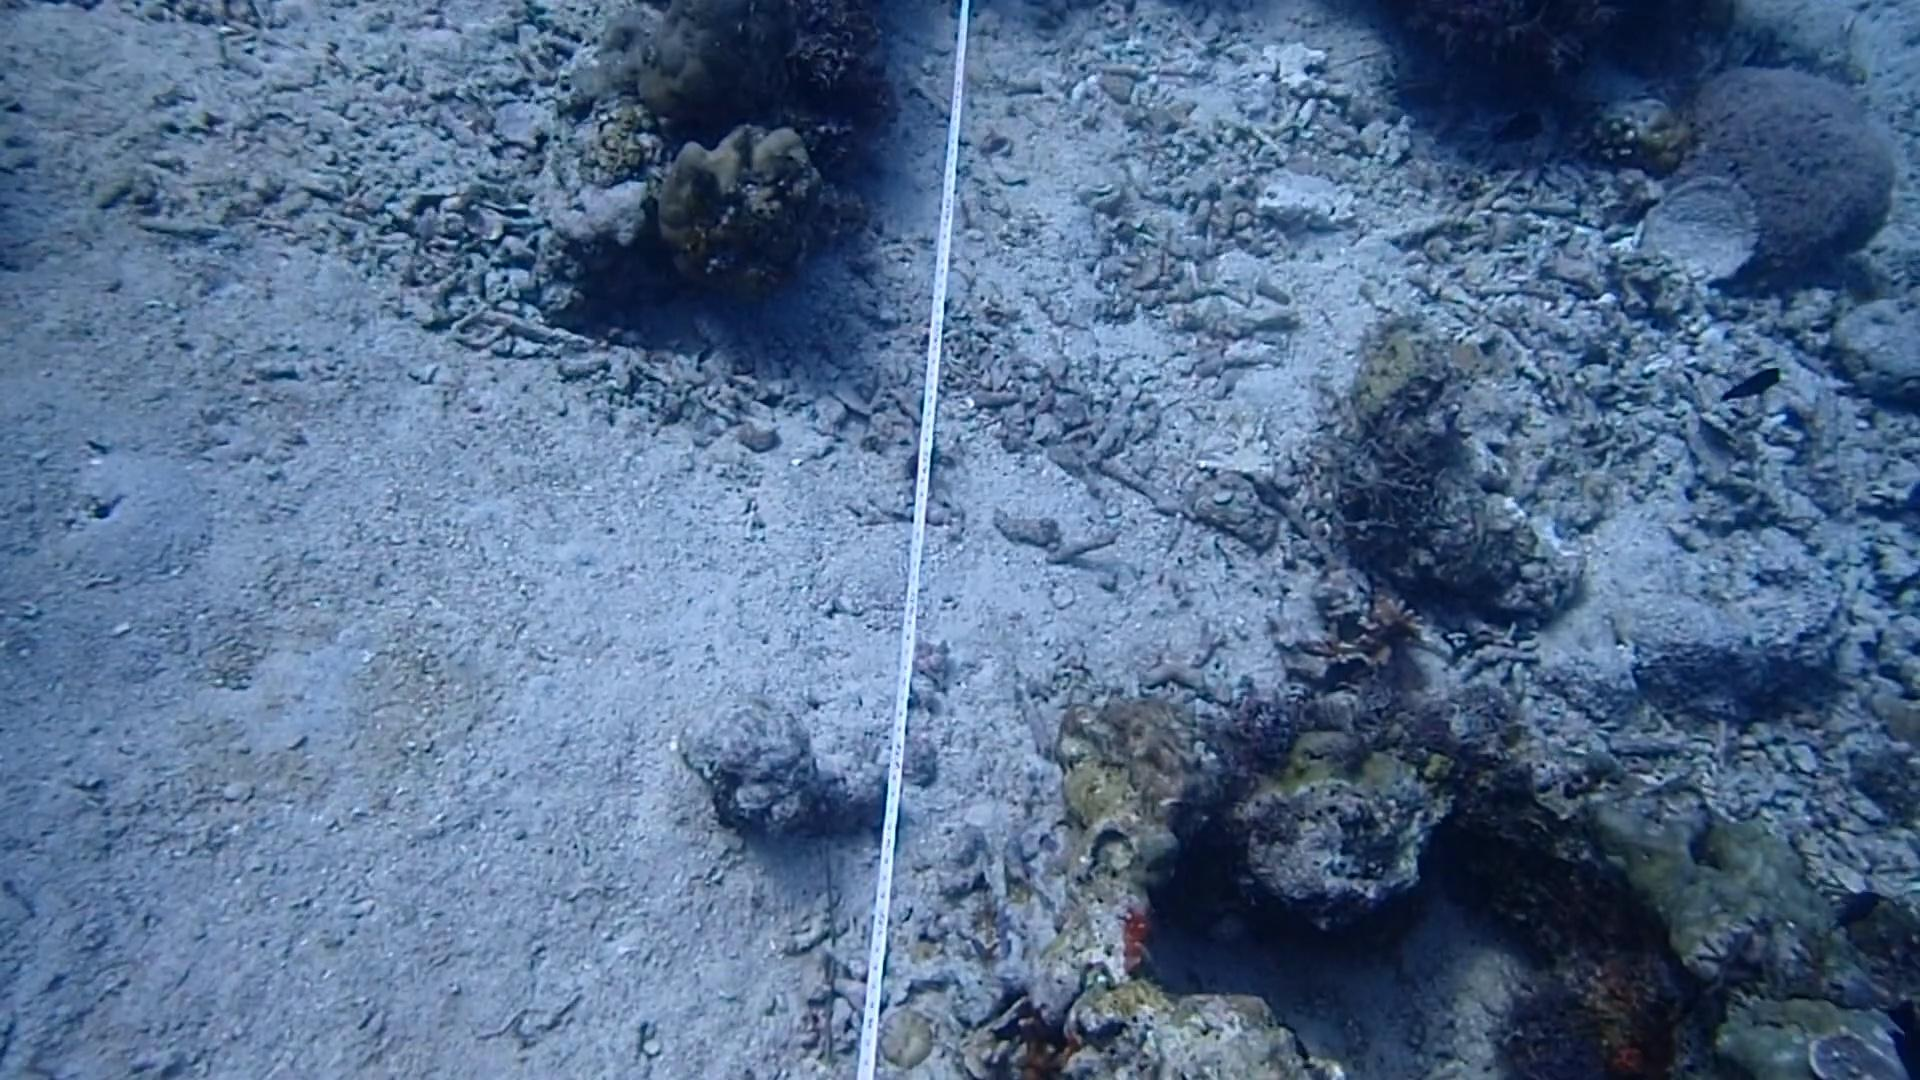Dark Fish: (1476, 102, 1557, 152), (1879, 989, 1920, 1080), (1717, 359, 1787, 411)
